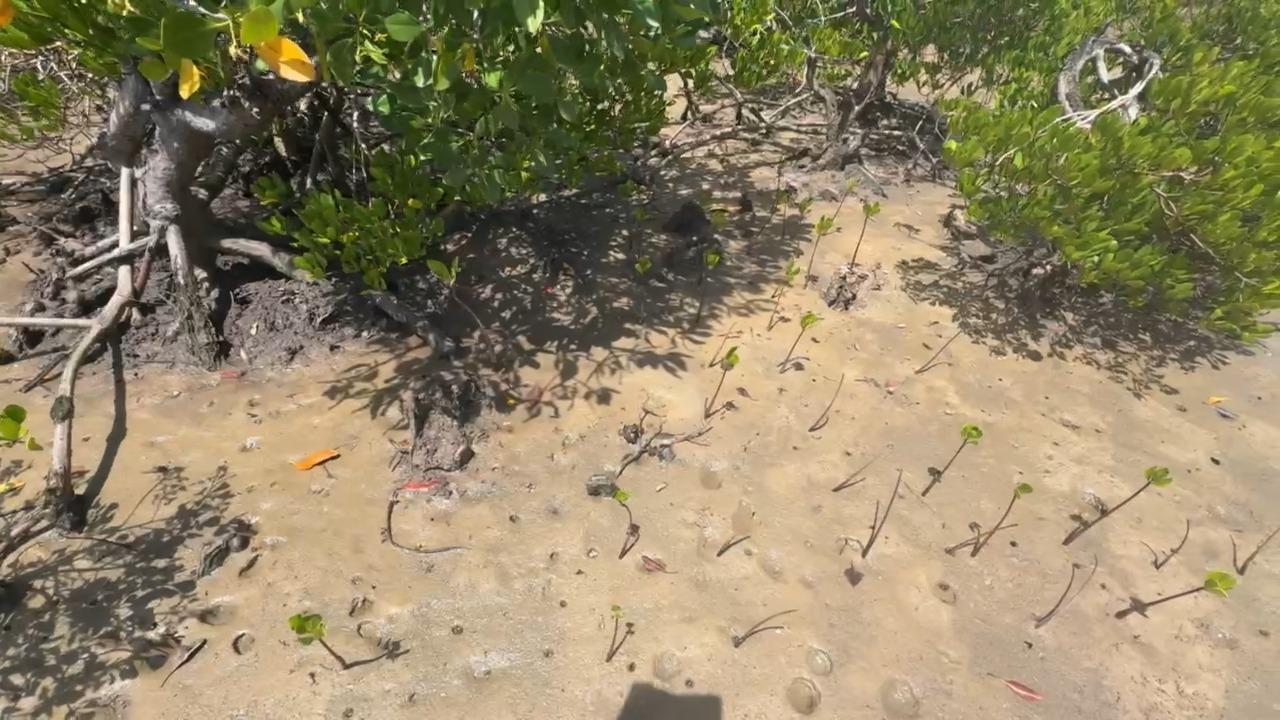Tree: (973, 482, 1033, 556), (1105, 463, 1172, 520), (861, 470, 903, 557), (287, 612, 347, 668), (1143, 572, 1236, 604), (702, 346, 740, 418), (780, 312, 824, 373), (802, 214, 842, 280), (767, 258, 802, 330), (731, 610, 798, 646), (808, 373, 847, 432), (942, 424, 983, 476), (850, 200, 880, 263), (696, 252, 720, 322), (635, 253, 652, 324), (631, 205, 652, 259), (605, 604, 624, 661), (618, 180, 633, 248), (792, 196, 814, 241), (832, 178, 854, 221), (614, 490, 633, 525)
